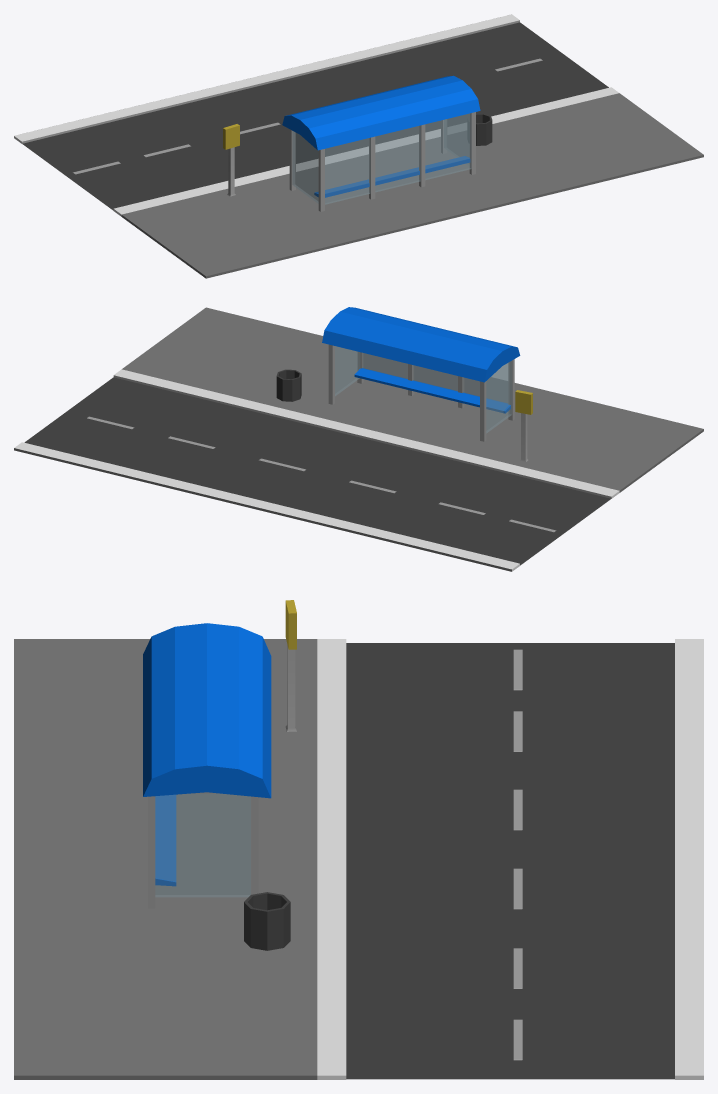
File: Bus_stop.fbx
3 views of the same model, one above another, from view 1: azimuth 30°, elevation 25°; view 2: azimuth 150°, elevation 25°; view 3: azimuth 270°, elevation 25° (orthographic). The views are drawn at different scales.
Parts seen in each view (by area): view 1: pCube25, pPlane1, pCylinder1, pCube26, pCube6, pCube11, pCube9, pCube15, pCube16, pCube1, pCylinder2, pCube8 (+4 smaller); view 2: pPlane1, pCube25, pCylinder1, pCube26, pCube16, pCube15, pCube1, pCube11, pCylinder2, pCube6, pCube9, pCube14; view 3: pPlane1, pCube25, pCylinder1, pCube26, pCube1, pCylinder2, pCube16, pCube3, pCube5, pCube17.
Part boxes in pixels (<box>): pCube25: <box>113,87,703,278</box>; pPlane1: <box>22,22,608,210</box>; pCylinder1: <box>282,75,480,150</box>; pCube26: <box>14,14,519,143</box>; pCube6: <box>425,113,471,179</box>; pCube11: <box>325,138,370,204</box>; pCube9: <box>375,126,420,191</box>; pCube15: <box>292,131,318,203</box>; pCube16: <box>314,156,470,197</box>; pCube1: <box>444,114,469,165</box>; pCylinder2: <box>468,113,492,145</box>; pCube8: <box>369,136,375,199</box>; pPlane1: <box>24,377,611,565</box>; pCube25: <box>113,307,703,498</box>; pCylinder1: <box>322,307,520,382</box>; pCube26: <box>14,442,519,571</box>; pCube16: <box>354,368,510,413</box>; pCube15: <box>486,361,511,433</box>; pCube1: <box>335,346,360,395</box>; pCube11: <box>463,363,507,412</box>; pCylinder2: <box>276,369,301,401</box>; pCube6: <box>362,353,407,379</box>; pCube9: <box>412,365,457,391</box>; pCube14: <box>480,381,486,441</box>; pPlane1: <box>346,643,674,1079</box>; pCube25: <box>14,639,346,1079</box>; pCylinder1: <box>143,623,271,798</box>; pCube26: <box>675,639,703,1079</box>; pCube1: <box>155,793,250,897</box>; pCylinder2: <box>244,892,290,950</box>; pCube16: <box>155,794,176,886</box>; pCube3: <box>148,796,155,908</box>; pCube5: <box>251,796,258,894</box>; pCube17: <box>285,645,296,731</box>.
Size of the model in its own units: 35.26 by 5.64 by 23.55.
